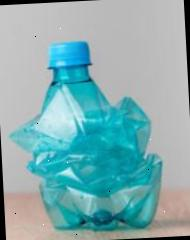plastic: (5, 35, 168, 236)
